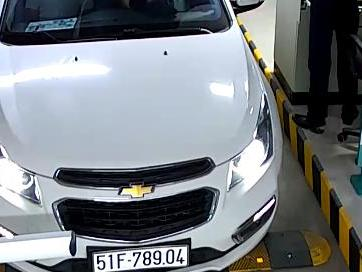number: (92, 243, 186, 272)
